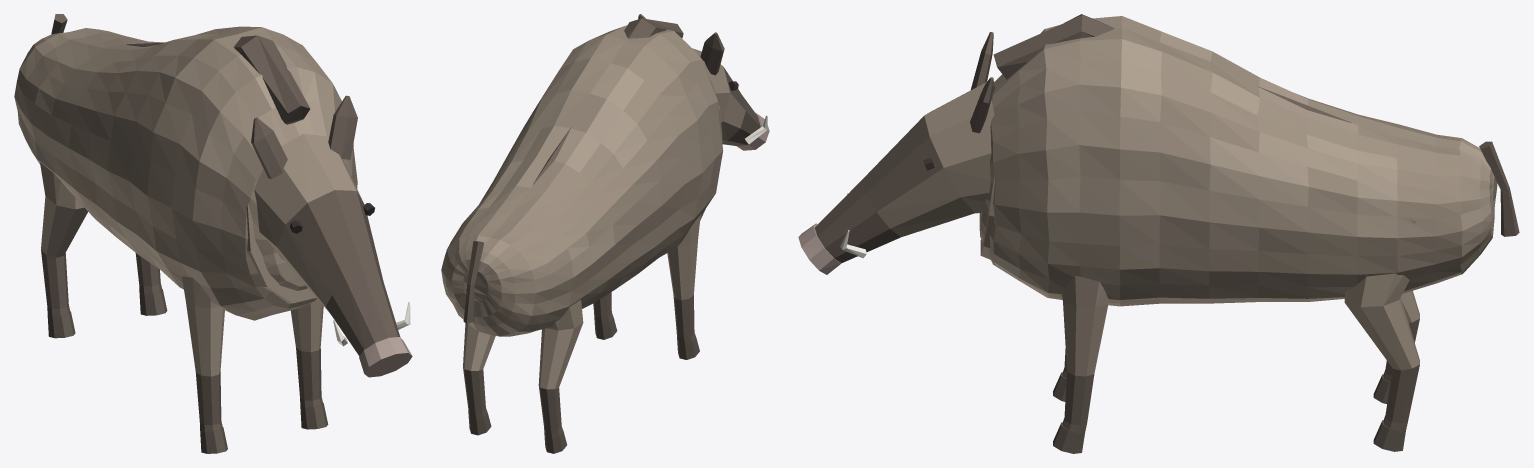
The model's file is boar.glb.
3 views of the same model, side by side, from view 1: azimuth 30°, elevation 25°; view 2: azimuth 150°, elevation 25°; view 3: azimuth 270°, elevation 25° (orthographic). The views are drawn at different scales.
Visible parts, largest first — view 1: Body, Head.Skull, Leg.FR, Leg.BR, Body.Mane, Leg.FL, Head.Snout, Head.Ear#2, Head.Neck, Head.Ear, Leg.BL, Leg.FL.Hoof (+3 smaller); view 2: Body, Leg.BR, Leg.FR, Head.Skull, Leg.BL, Body.Mane, Body.Tail, Head.Ear#2, Leg.FL, Leg.FR.Hoof, Leg.BL.Hoof, Leg.BR.Hoof (+2 smaller); view 3: Body, Head.Skull, Leg.BL, Leg.FL, Body.Mane, Body.Tail, Head.Snout.
Boxes of the visible parts, bbox=[...] form: Body: bbox=[14, 26, 357, 320]; Head.Skull: bbox=[254, 133, 400, 356]; Leg.FR: bbox=[182, 276, 224, 431]; Leg.BR: bbox=[40, 162, 87, 315]; Body.Mane: bbox=[126, 35, 310, 124]; Leg.FL: bbox=[291, 299, 323, 407]; Head.Snout: bbox=[359, 337, 412, 377]; Head.Ear#2: bbox=[251, 117, 287, 178]; Head.Neck: bbox=[246, 203, 316, 303]; Head.Ear: bbox=[328, 95, 357, 159]; Leg.BL: bbox=[135, 253, 161, 293]; Leg.FL.Hoof: bbox=[300, 402, 328, 429]; Body: bbox=[441, 25, 723, 336]; Leg.BR: bbox=[538, 299, 583, 438]; Leg.FR: bbox=[667, 214, 700, 344]; Head.Skull: bbox=[692, 48, 760, 146]; Leg.BL: bbox=[463, 323, 495, 419]; Body.Mane: bbox=[533, 18, 683, 184]; Body.Tail: bbox=[463, 241, 484, 323]; Head.Ear#2: bbox=[700, 32, 724, 75]; Leg.FL: bbox=[593, 292, 612, 324]; Leg.FR.Hoof: bbox=[677, 333, 699, 359]; Leg.BL.Hoof: bbox=[468, 409, 491, 435]; Leg.BR.Hoof: bbox=[544, 427, 566, 453]; Body: bbox=[979, 16, 1497, 306]; Head.Skull: bbox=[815, 81, 994, 262]; Leg.BL: bbox=[1344, 219, 1419, 432]; Leg.FL: bbox=[1061, 275, 1109, 434]; Body.Mane: bbox=[993, 14, 1351, 122]; Body.Tail: bbox=[1479, 141, 1519, 236]; Head.Snout: bbox=[798, 223, 841, 274].
Bounding box in the file's own units: 0.4418 × 0.9181 × 1.46.
